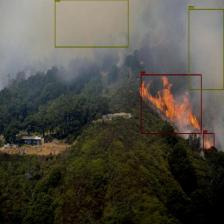fire: (141, 74, 201, 134), (203, 134, 214, 150)
smoke: (54, 0, 128, 47), (188, 9, 224, 90)
